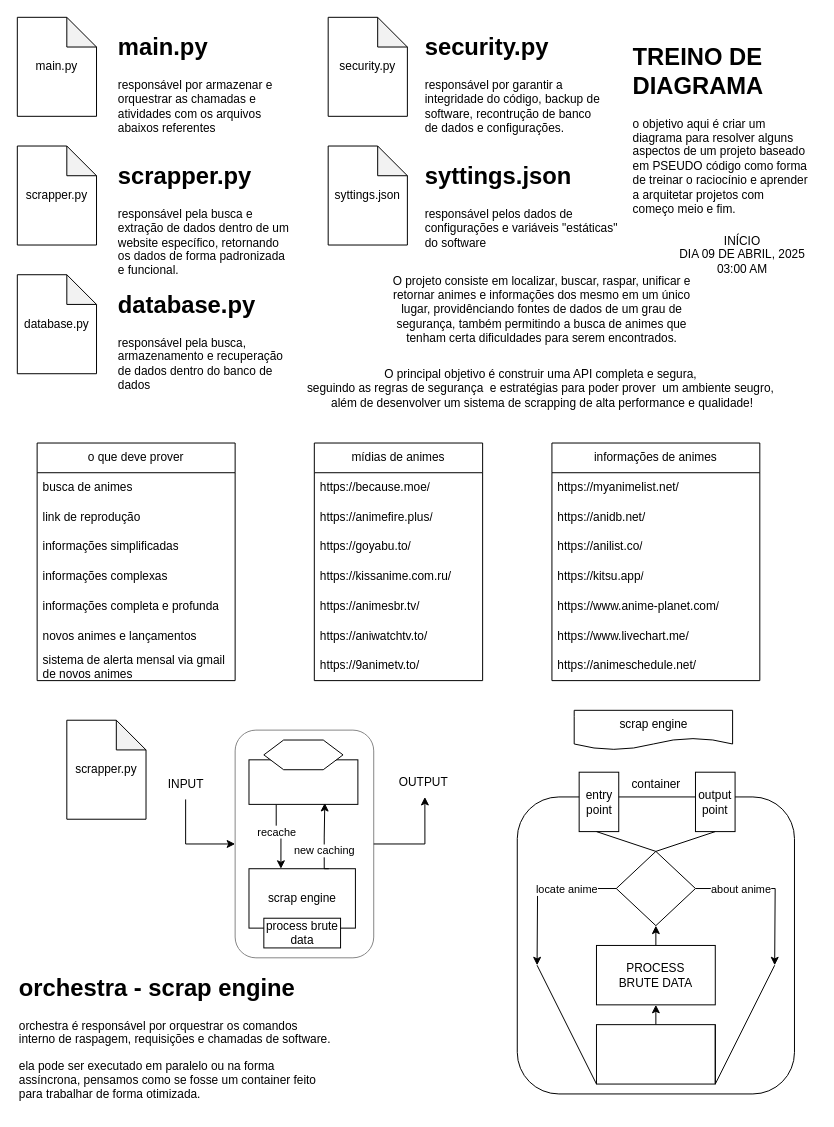
The diagram is 834 pixels wide and 1127 high, and some of its shapes have lost their labels. Each missing label, with the centre of its shape:
"cache core" goes at [303,781].
"orchestra" goes at [655,888].
"request HTML/API module" goes at [655,1054].
"SQLITE" goes at [303,754].
